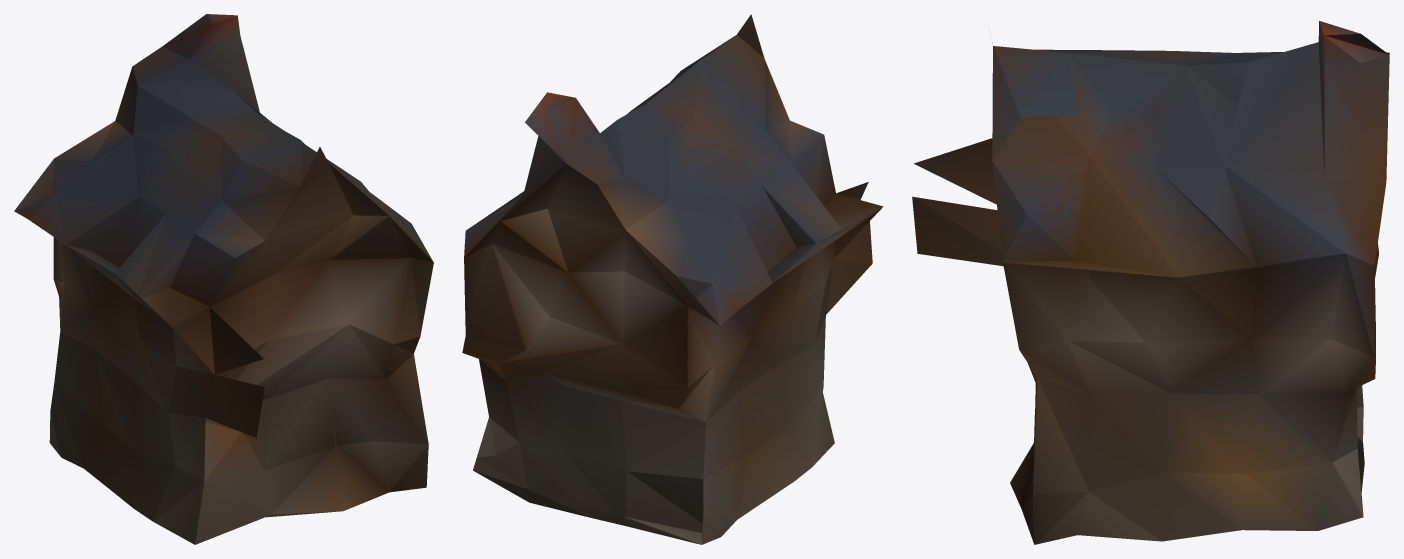
The model's file is tavern.glb.
The picture shows the model from 3 angles, left to right: view 1: azimuth 30°, elevation 25°; view 2: azimuth 150°, elevation 25°; view 3: azimuth 270°, elevation 25°; orthographic projection. The views are drawn at different scales.
Visible parts, largest first — view 1: tavern-far; view 2: tavern-far; view 3: tavern-far.
Boxes of the visible parts, bbox=[...] form: tavern-far: bbox=[14, 14, 433, 544]; tavern-far: bbox=[462, 14, 883, 544]; tavern-far: bbox=[912, 21, 1389, 544].
Bounding box in the file's own units: 6.16 × 8.63 × 7.88.
